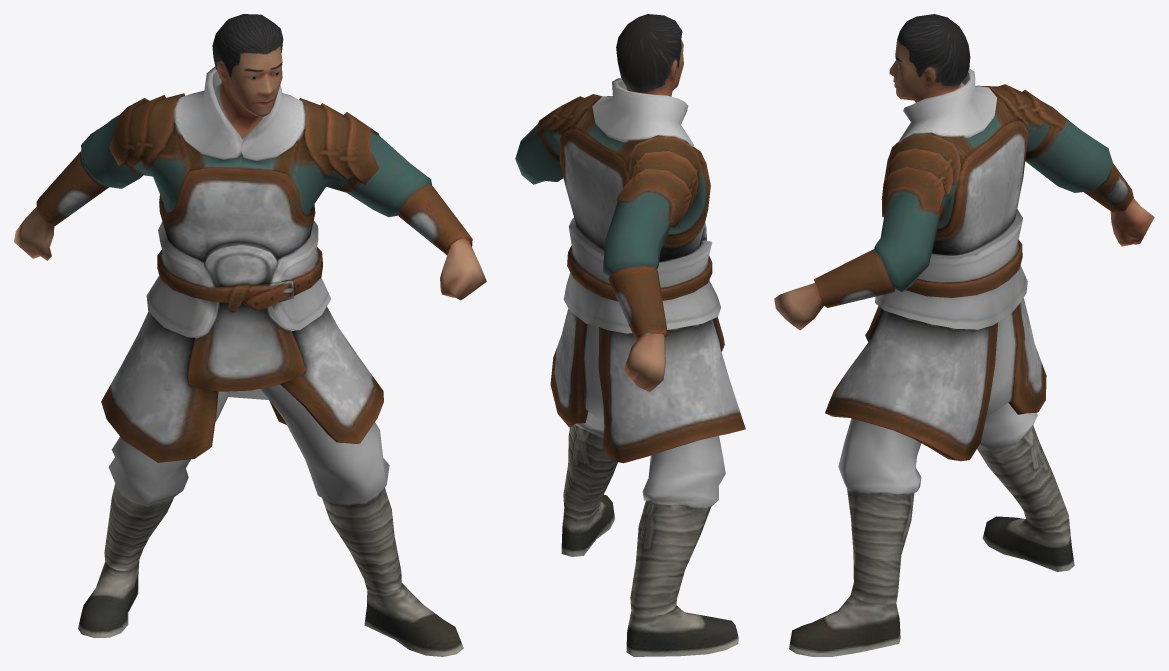
File: body-mediuminfantry.glb
The picture shows the model from 3 angles, left to right: view 1: azimuth 30°, elevation 25°; view 2: azimuth 150°, elevation 25°; view 3: azimuth 270°, elevation 25°; orthographic projection. The views are drawn at different scales.
Bounding box in the file's own units: 0.9997 × 1.99 × 1.2.
Materials: 1 (1 with a texture image).
